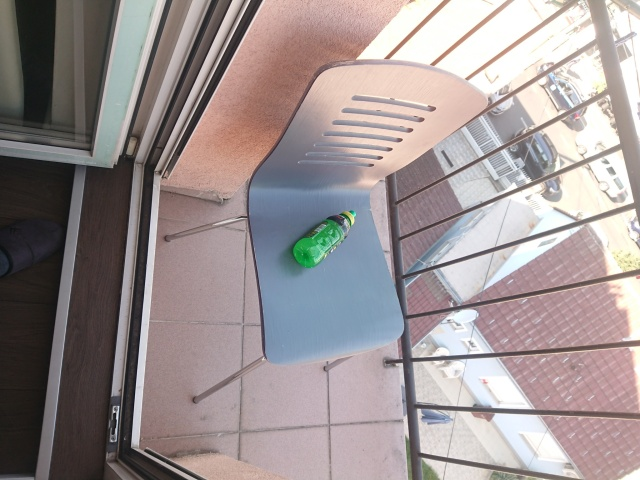Vindi Iso Sport Lemon-Grapefruit 500mL: (290, 207, 359, 271)
